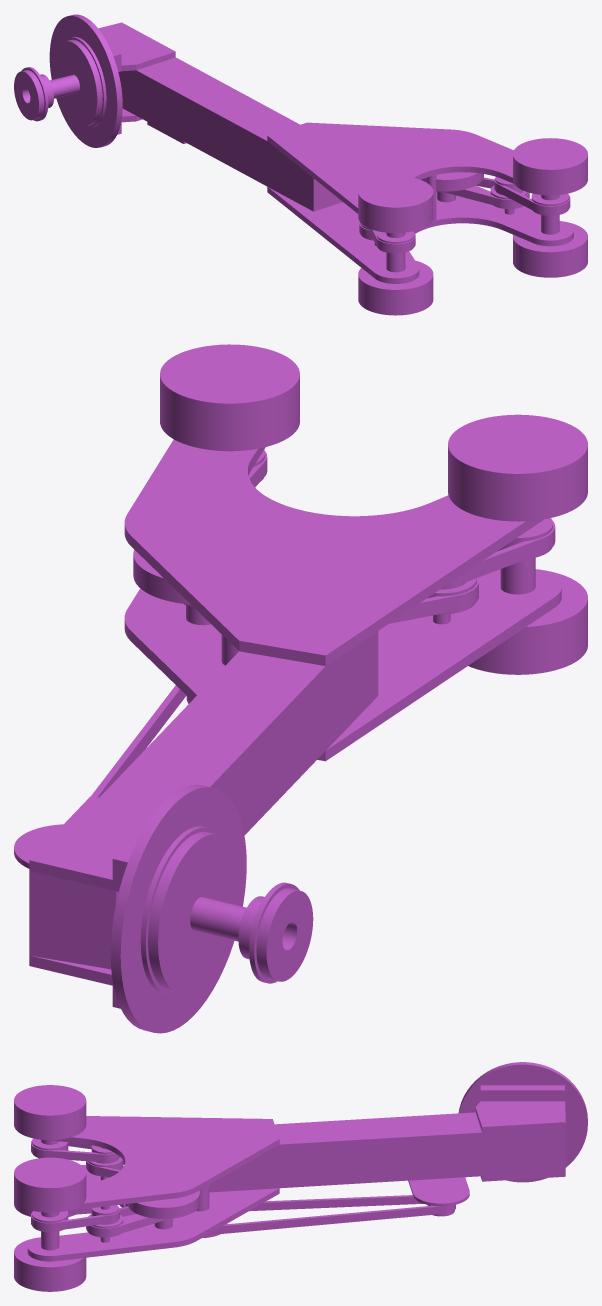
3 renders of one model, top to bottom at view 1: azimuth 30°, elevation 25°; view 2: azimuth 150°, elevation 25°; view 3: azimuth 270°, elevation 25°, orthographic. The views are drawn at different scales.
Visible parts, largest first — view 1: Arm Pivot; view 2: Arm Pivot; view 3: Arm Pivot.
Boxes of the visible parts, x1,y1,x2,y2 form: Arm Pivot: (14,14,587,315); Arm Pivot: (14,344,587,1033); Arm Pivot: (14,1062,587,1291).
Size of the model in its own units: 0.3635 by 0.137 by 0.6052.
